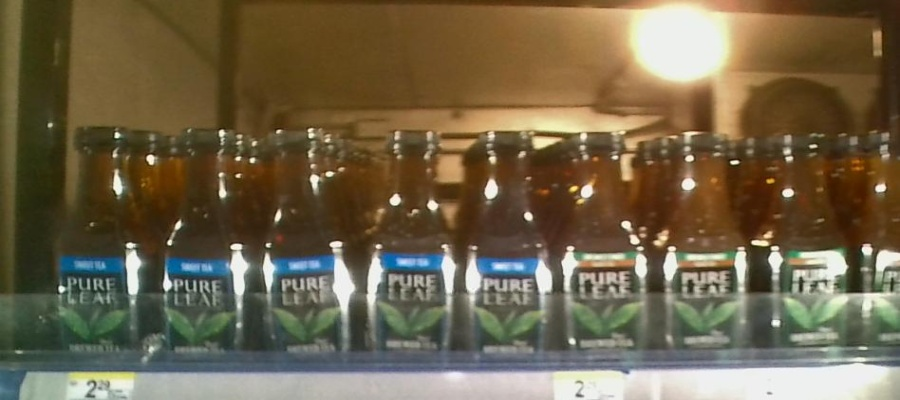bottle: (259, 118, 361, 368), (50, 121, 154, 364), (559, 117, 655, 367), (660, 121, 757, 367), (366, 118, 459, 369), (159, 123, 256, 362), (463, 120, 554, 373), (762, 118, 853, 358), (857, 122, 900, 360)
